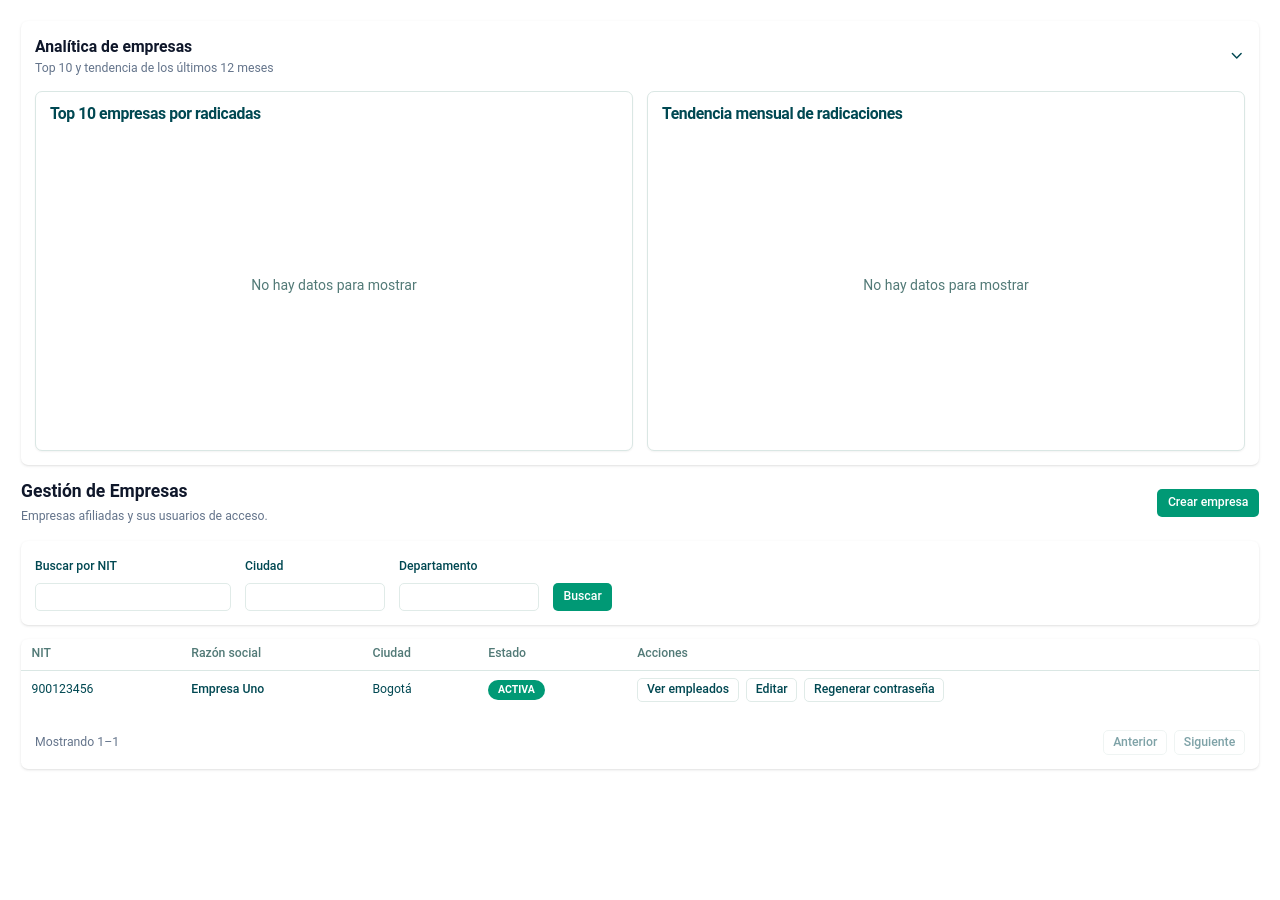
Scenario: EmpresasPage › opening the edit dialog fetches the full empresa record and prefills the form (Fix 1)
Expected: the text "Empresa Uno" is shown, [181, 670, 362, 709]
Click the button "Editar": (772, 690) [746, 678, 797, 702]
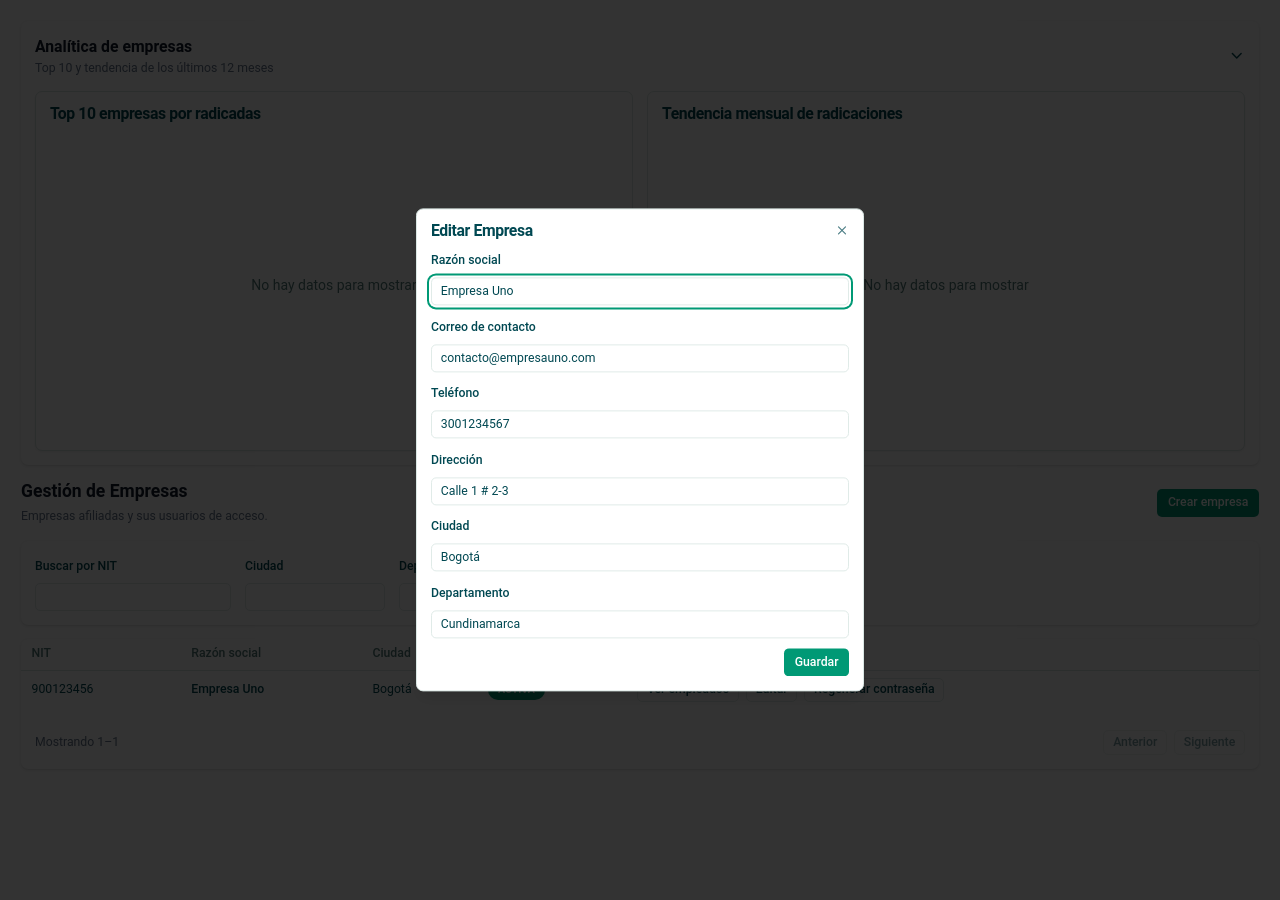
Expected: the field labelled "Correo de contacto" holds "contacto@empresauno.com", [431, 344, 849, 372]
Expected: the field labelled "Teléfono" holds "3001234567", [431, 411, 849, 439]
Expected: the field labelled "Dirección" holds "Calle 1 # 2-3", [431, 477, 849, 505]
